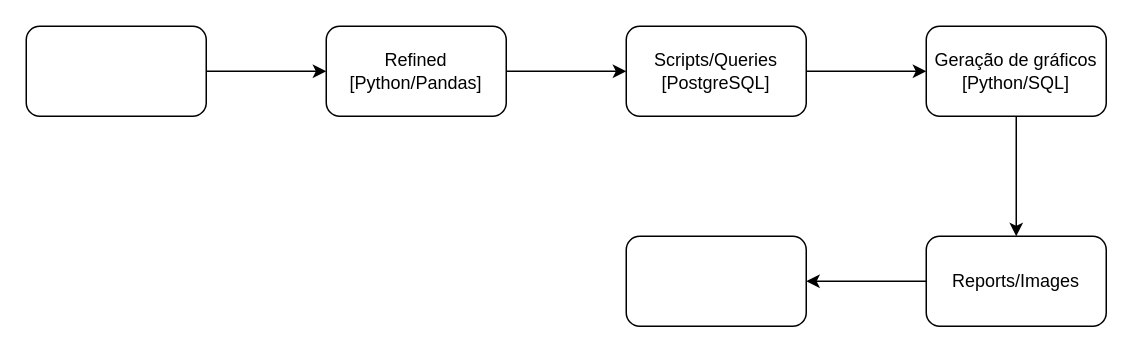
The diagram is 1133 pixels wide and 353 high, and some of its shapes have lost their labels. Here are the shapes that lost their labels. From the top down, the box of each, then its label:
(25, 25, 206, 116): Raw/Data
(625, 235, 806, 326): README [Documentação final]
